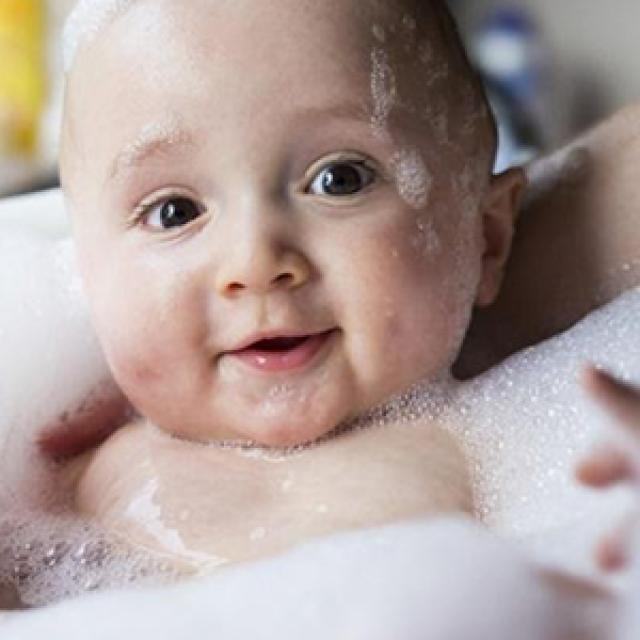non-dog: (11, 3, 640, 589)
